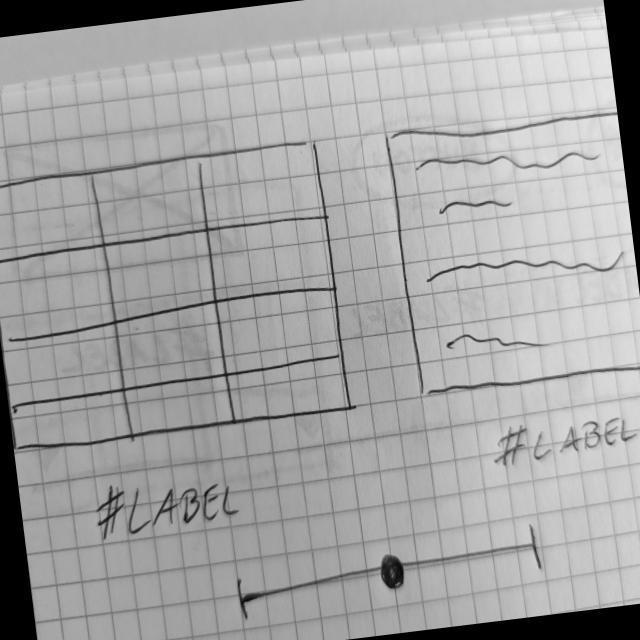table: (1, 137, 357, 458), (384, 99, 640, 405)
